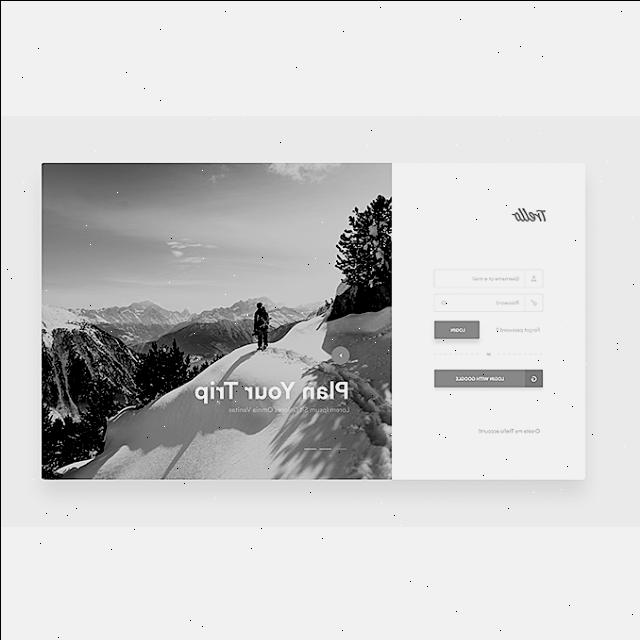QLabel: (510, 204, 548, 222), (478, 427, 540, 433), (454, 374, 506, 380), (495, 325, 541, 331), (448, 325, 466, 331), (486, 351, 490, 355)
VBtn: (433, 368, 542, 387), (433, 320, 479, 338)
VCard: (38, 159, 586, 481)
VCarousel: (42, 162, 390, 478)
VDivider: (496, 352, 544, 354), (432, 352, 480, 354)
VImg: (524, 369, 542, 385)
VTextField: (432, 268, 542, 286), (433, 292, 543, 310)
